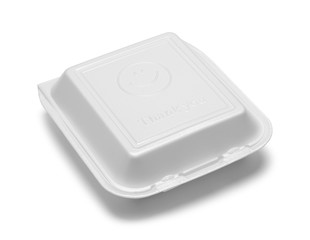styrofoam: (35, 29, 273, 202)
